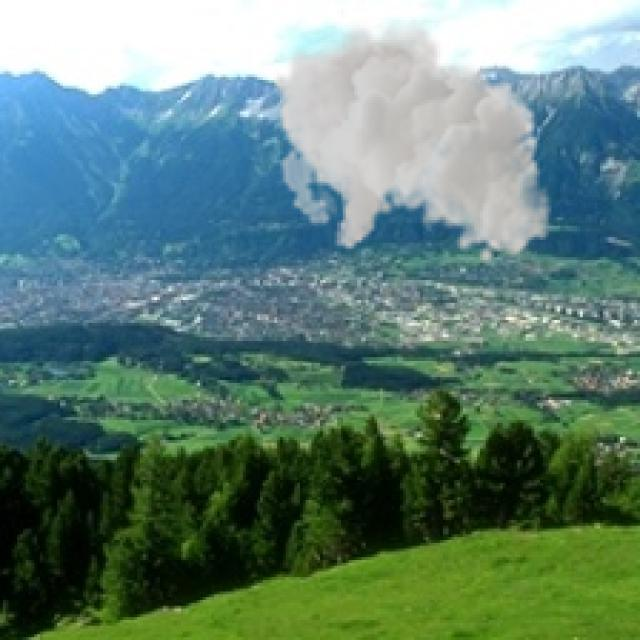Smoke: (272, 14, 552, 266)
